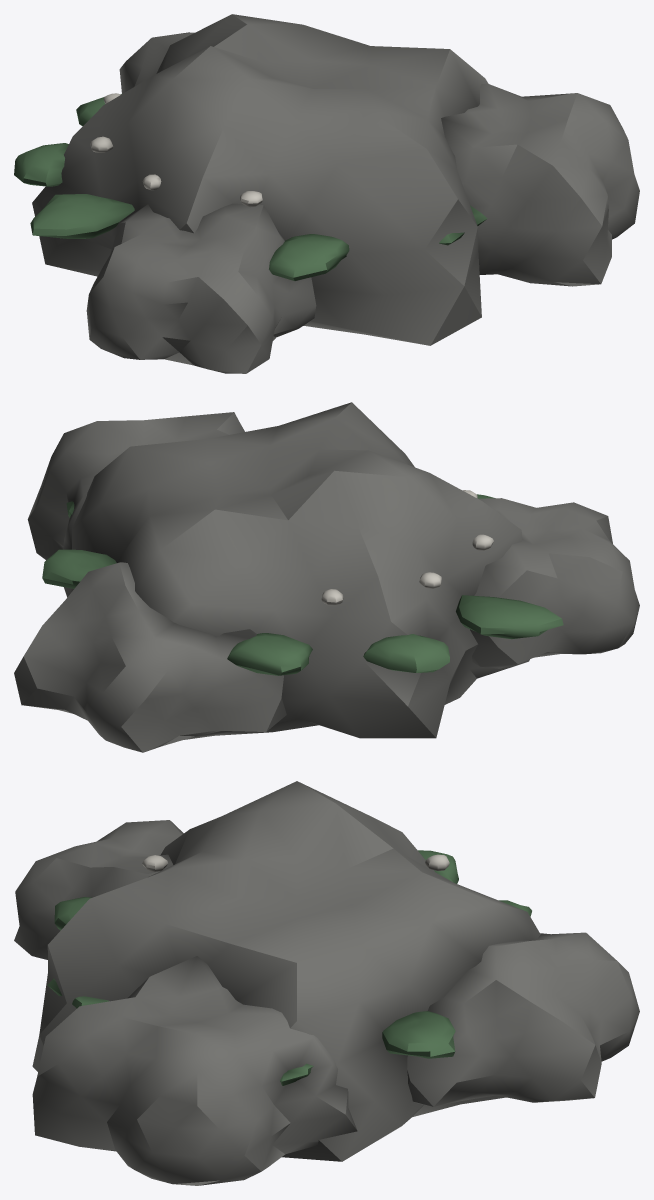
The model's file is shorerock.glb.
The picture shows the model from 3 angles, top to bottom: view 1: azimuth 30°, elevation 25°; view 2: azimuth 150°, elevation 25°; view 3: azimuth 270°, elevation 25°; orthographic projection. The views are drawn at different scales.
Parts seen in each view (by area): view 1: boat_wetrock, boat_weed, boat_barnacle; view 2: boat_wetrock, boat_weed, boat_barnacle; view 3: boat_wetrock, boat_weed, boat_barnacle.
Boxes of the visible parts, x1,y1,x2,y2 form: boat_wetrock: (32, 14, 639, 373); boat_weed: (14, 93, 487, 280); boat_barnacle: (90, 93, 262, 207); boat_wetrock: (14, 402, 639, 752); boat_weed: (42, 494, 563, 675); boat_barnacle: (321, 490, 493, 605); boat_wetrock: (14, 781, 639, 1185); boat_weed: (47, 850, 531, 1085); boat_barnacle: (142, 854, 449, 871).
Size of the model in its own units: 2.73 by 0.9938 by 2.51.
